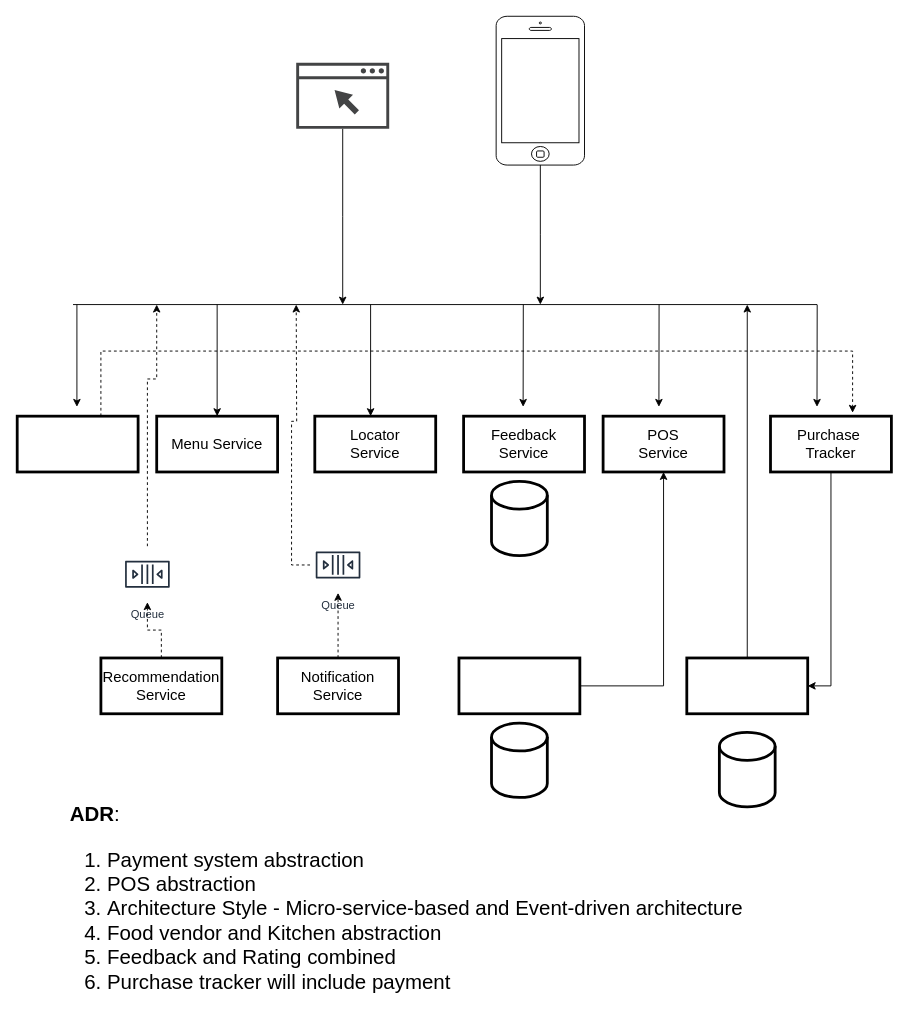
Some shapes in this 909 by 1031 pixel diagram are drawn without their labels. Each missing label, with the centre of its shape:
Customer Service: pixel 77 443
Inventory Tracker: pixel 519 685
Marketing Service: pixel 747 685
